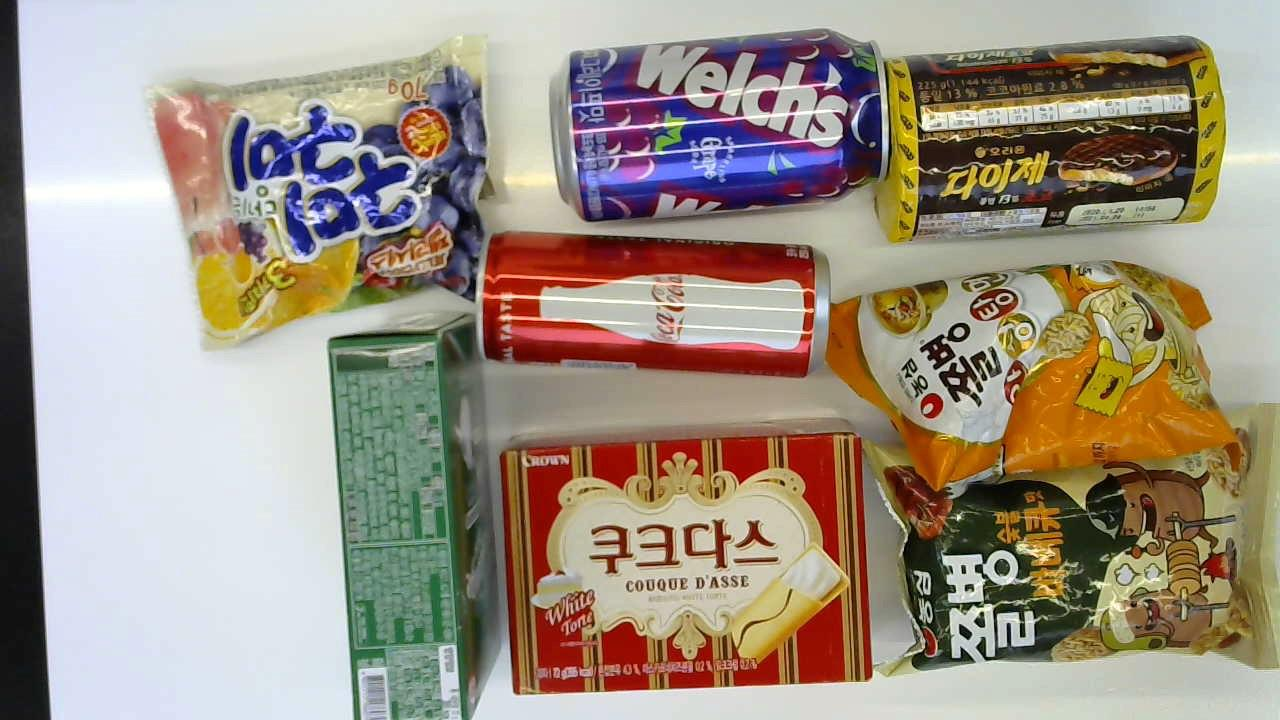coke: (478, 213, 839, 382)
couque_coffee: (331, 297, 486, 715)
couque_white: (499, 409, 884, 697)
diget_choco: (867, 30, 1232, 252)
gumi_gumi: (139, 26, 520, 356)
jjolbyung_noodle: (831, 257, 1241, 469)
jjolbyung_ori: (892, 410, 1272, 675)
welchs: (550, 22, 893, 219)
